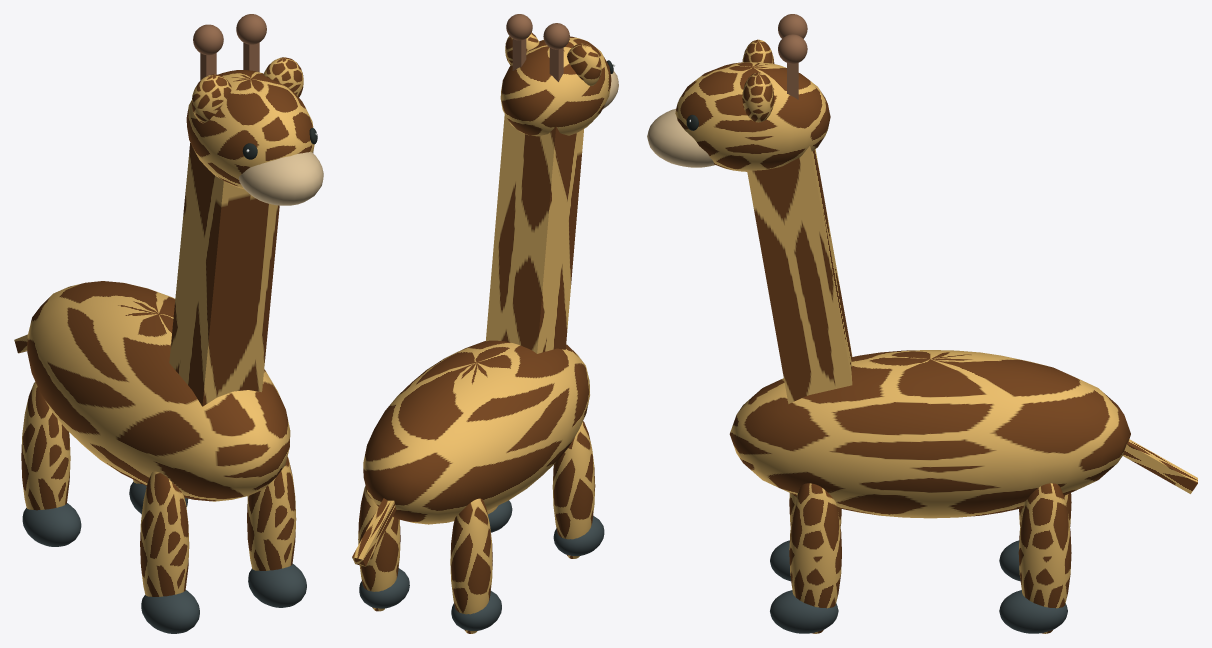
File: city-giraffe.glb
3 views of the same model, side by side, from view 1: azimuth 30°, elevation 25°; view 2: azimuth 150°, elevation 25°; view 3: azimuth 270°, elevation 25° (orthographic). The views are drawn at different scales.
Parts seen in each view (by area): view 1: Animal_giraffe, Walk_FL, Walk_BL, Walk_FR; view 2: Animal_giraffe, Walk_BL, Walk_FL, Walk_BR, Walk_FR; view 3: Animal_giraffe, Walk_FR, Walk_BR, Walk_BL, Walk_FL.
Boxes of the visible parts, x1=… form: Animal_giraffe: x1=14, y1=14, x2=323, y2=501; Walk_FL: x1=140, y1=471, x2=199, y2=633; Walk_BL: x1=21, y1=381, x2=81, y2=546; Walk_FR: x1=247, y1=456, x2=306, y2=607; Animal_giraffe: x1=352, y1=14, x2=618, y2=566; Walk_BL: x1=450, y1=498, x2=501, y2=633; Walk_FL: x1=552, y1=421, x2=604, y2=558; Walk_BR: x1=358, y1=485, x2=409, y2=611; Walk_FR: x1=487, y1=500, x2=512, y2=532; Animal_giraffe: x1=647, y1=14, x2=1197, y2=518; Walk_FR: x1=770, y1=483, x2=841, y2=633; Walk_BR: x1=999, y1=483, x2=1071, y2=633; Walk_BL: x1=999, y1=493, x2=1071, y2=581; Walk_FL: x1=770, y1=493, x2=841, y2=581.
Size of the model in its own units: 1.6 by 5.61 by 4.8.
Materials: 6 (1 with a texture image).
